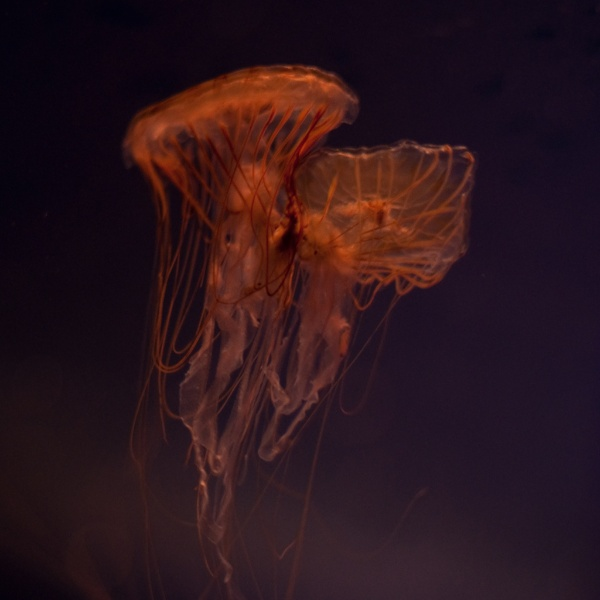Jellyfish: (111, 42, 485, 596)
